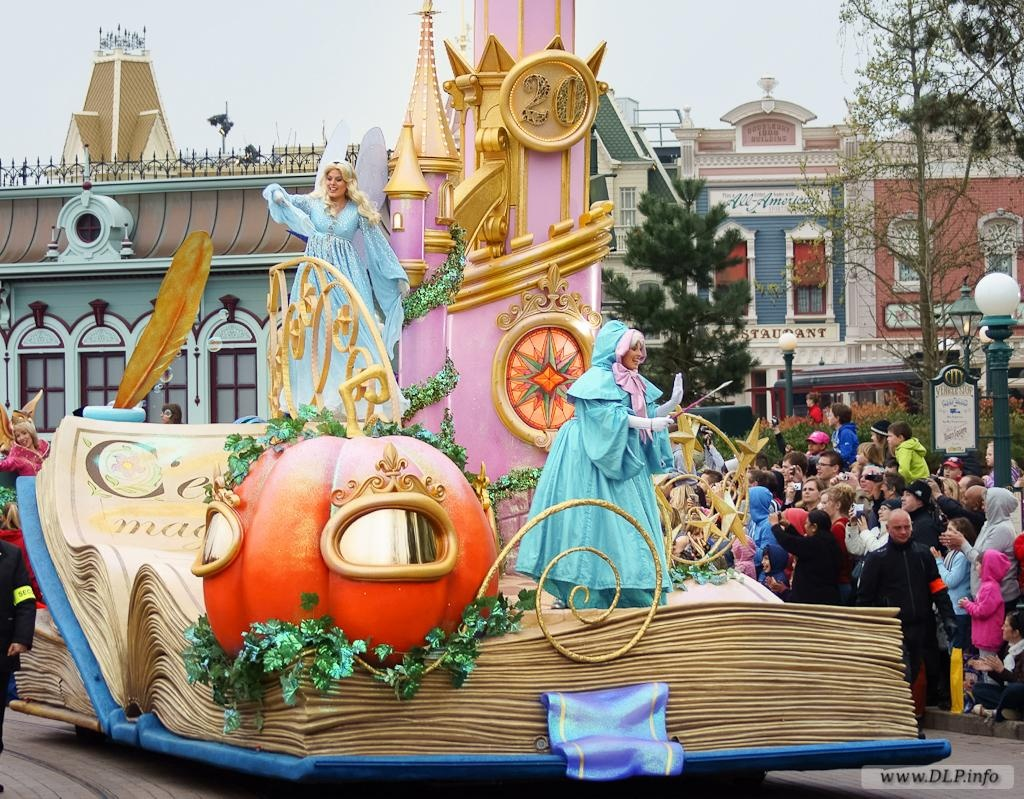human_face: (325, 171, 345, 197), (622, 340, 640, 368), (889, 518, 911, 540), (860, 470, 878, 491), (900, 490, 918, 510), (817, 458, 835, 478), (14, 428, 32, 446), (820, 494, 836, 514), (802, 481, 818, 501), (1001, 617, 1015, 638), (954, 481, 968, 501), (876, 504, 892, 520), (944, 526, 958, 544), (962, 494, 976, 510), (944, 462, 958, 478), (782, 462, 796, 478), (760, 554, 774, 570), (985, 446, 997, 463), (870, 430, 882, 447), (886, 430, 898, 446), (808, 436, 820, 452), (697, 475, 709, 491), (848, 466, 860, 481), (804, 515, 812, 537), (880, 482, 890, 498), (772, 464, 782, 480), (826, 411, 836, 425), (976, 560, 986, 574), (855, 450, 865, 462), (742, 463, 750, 478), (163, 409, 173, 420), (804, 395, 812, 406)
